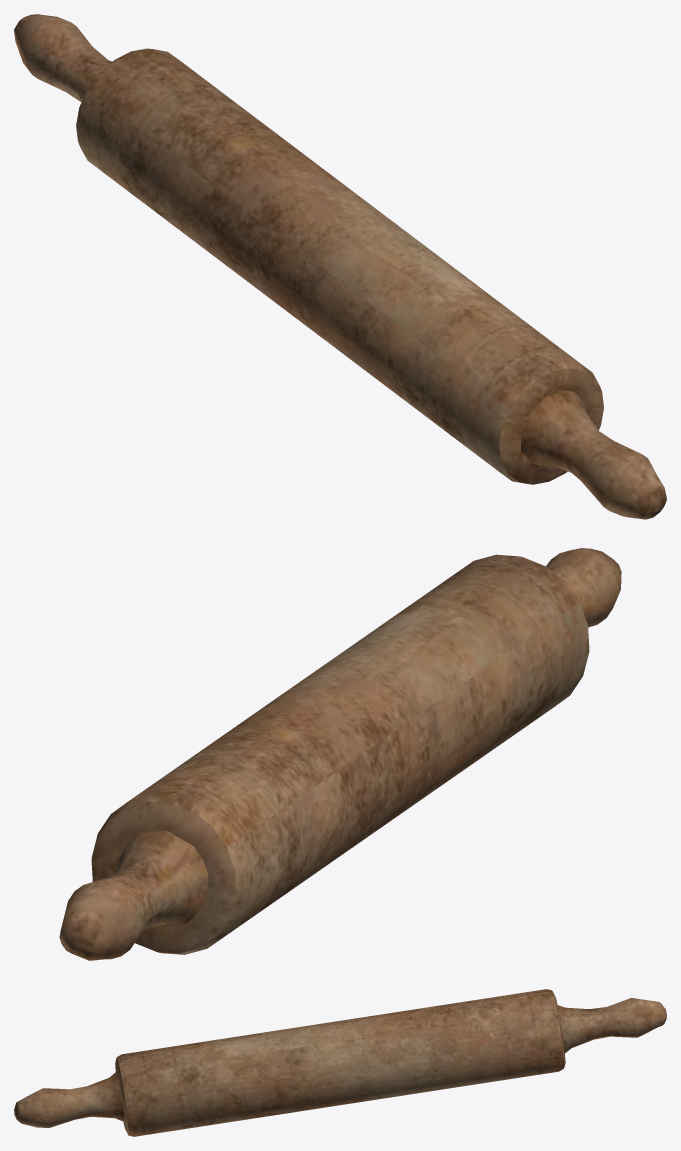
The model's file is rollingpin.glb.
The picture shows the model from 3 angles, top to bottom: view 1: azimuth 30°, elevation 25°; view 2: azimuth 150°, elevation 25°; view 3: azimuth 270°, elevation 25°; orthographic projection. The views are drawn at different scales.
Parts seen in each view (by area): view 1: Roller_low__0; view 2: Roller_low__0; view 3: Roller_low__0.
Part boxes in pixels (box(x1,y1,x2,y2)): Roller_low__0: box(14, 14, 666, 519); Roller_low__0: box(59, 548, 621, 960); Roller_low__0: box(14, 989, 666, 1136).
Size of the model in its own units: 127 by 130 by 636.
Materials: 1 (1 with a texture image).
